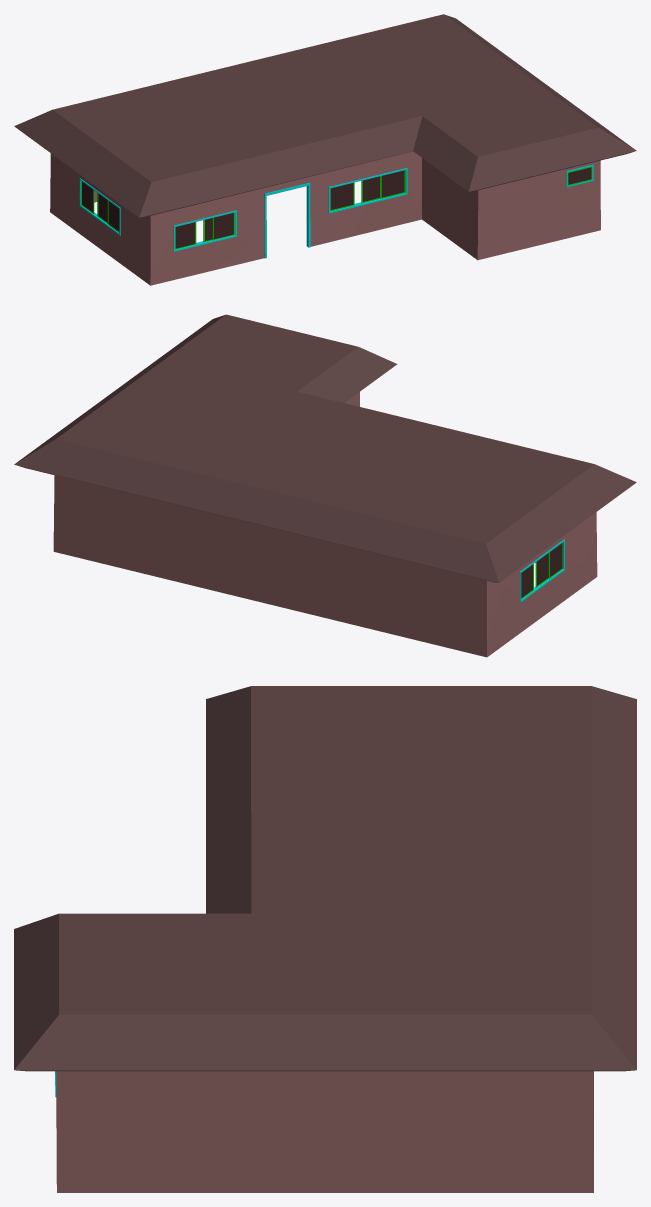
The model's file is Tienda UV corte.fbx.
3 renders of one model, top to bottom at view 1: azimuth 30°, elevation 25°; view 2: azimuth 150°, elevation 25°; view 3: azimuth 270°, elevation 25°, orthographic. The views are drawn at different scales.
Visible parts, largest first — view 1: techo1, paredes1, ventana, marco, puerta, marco_2_listo, ven_1, marco_listo; view 2: techo1, paredes1, ventana; view 3: techo1, paredes1.
Boxes of the visible parts, <box> form: techo1: <box>14,14,636,217</box>; paredes1: <box>50,151,600,285</box>; ventana: <box>82,167,591,248</box>; marco: <box>81,166,592,249</box>; puerta: <box>264,182,310,258</box>; marco_2_listo: <box>328,168,407,213</box>; ven_1: <box>381,170,404,197</box>; marco_listo: <box>173,210,236,251</box>; techo1: <box>14,314,636,582</box>; paredes1: <box>53,392,597,657</box>; ventana: <box>521,543,562,597</box>; techo1: <box>14,686,636,1071</box>; paredes1: <box>56,1071,593,1192</box>.
Bounding box in the file's own units: 306 × 67.94 × 217.
